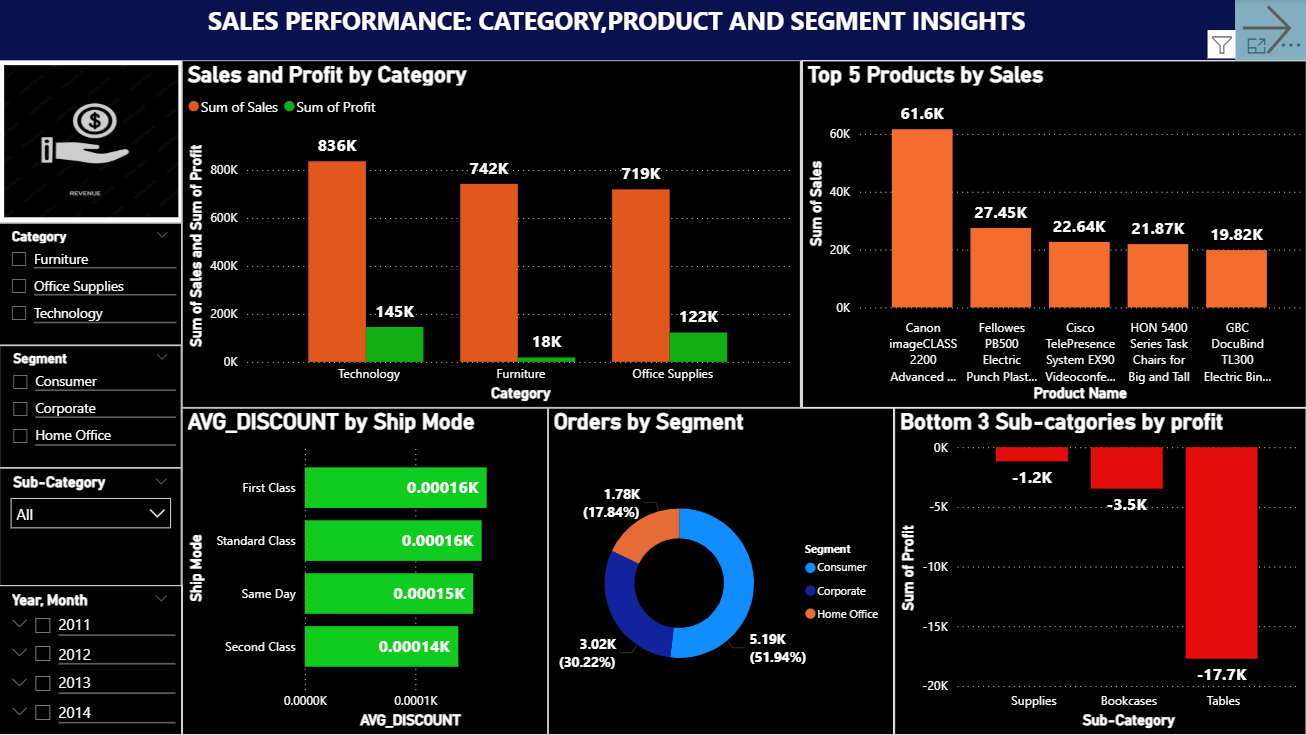

Layout of this report page (visuals, bound fields, positions):
{"tool":"powerbi","page":{"name":"product_sales_analyssis","canvas":[1280,720],"ordinal":3},"visuals":[{"type":"clusteredColumnChart","title":"Sales and Profit by Category","fields":{"Category":["Orders.Category"],"Y":["Sum(Orders.Sales)","Sum(Orders.Profit)"]},"box":[180,60,605.7,340],"z":0},{"type":"columnChart","title":"Bottom 3 Sub-catgories by profit ","fields":{"Category":["Orders.Sub-Category"],"Y":["Sum(Orders.Profit)"]},"box":[877.1,400,402.9,320],"z":1000},{"type":"donutChart","title":" Orders by Segment","fields":{"Y":["CountNonNull(Orders.Order ID)"],"Category":["Orders.Segment"]},"box":[538.6,400,338.6,320],"z":2000},{"type":"barChart","fields":{"Category":["Orders.Ship Mode"],"Y":["Orders.AVG_DISCOUNT"]},"box":[180,400,358.6,320],"z":3000},{"type":"textbox","box":[0,0,1210,60],"z":4000},{"type":"lineClusteredColumnComboChart","title":"Top 5 Products by Sales","fields":{"Category":["Orders.Product Name"],"Y":["Sum(Orders.Sales)"]},"box":[785.7,60,494.3,340],"z":5000},{"type":"slicer","fields":{"Values":["Orders.Category"]},"box":[0,218.8,180,120],"z":6000},{"type":"slicer","fields":{"Values":["Orders.Segment"]},"box":[1.4,338.6,178.6,120],"z":7000},{"type":"slicer","fields":{"Values":["Orders.Sub-Category"]},"box":[1.2,458.6,178.5,116.2],"z":8000},{"type":"image","box":[1.2,60,180,158.8],"z":9000},{"type":"actionButton","box":[1210,0,70,60],"z":10000},{"type":"slicer","fields":{"Values":["Date_table.Date"]},"box":[0,573.5,181,146.7],"z":11000},{"type":"slicer","fields":{"Values":["Date_table.Year","Date_table.Month"]},"box":[0,573.5,179.8,146.7],"z":12000}]}

Visuals, with their boxes in screenshot pixels (x1, y1, x2, y2), scaled from the page's 1280x720 canvas onto the 1306x735 screenshot:
"Sales and Profit by Category" clusteredColumnChart: x1=184 y1=61 x2=802 y2=408
"Bottom 3 Sub-catgories by profit " columnChart: x1=895 y1=408 x2=1305 y2=734
" Orders by Segment" donutChart: x1=550 y1=408 x2=895 y2=734
barChart - Orders.Ship Mode x Orders.AVG_DISCOUNT: x1=184 y1=408 x2=550 y2=734
textbox: x1=0 y1=0 x2=1235 y2=61
"Top 5 Products by Sales" lineClusteredColumnComboChart: x1=802 y1=61 x2=1305 y2=408
slicer - Orders.Category: x1=0 y1=223 x2=184 y2=346
slicer - Orders.Segment: x1=1 y1=346 x2=184 y2=468
slicer - Orders.Sub-Category: x1=1 y1=468 x2=183 y2=587
image: x1=1 y1=61 x2=185 y2=223
actionButton: x1=1235 y1=0 x2=1305 y2=61
slicer - Date_table.Date: x1=0 y1=585 x2=185 y2=734
slicer - Date_table.Year x Date_table.Month: x1=0 y1=585 x2=183 y2=734
